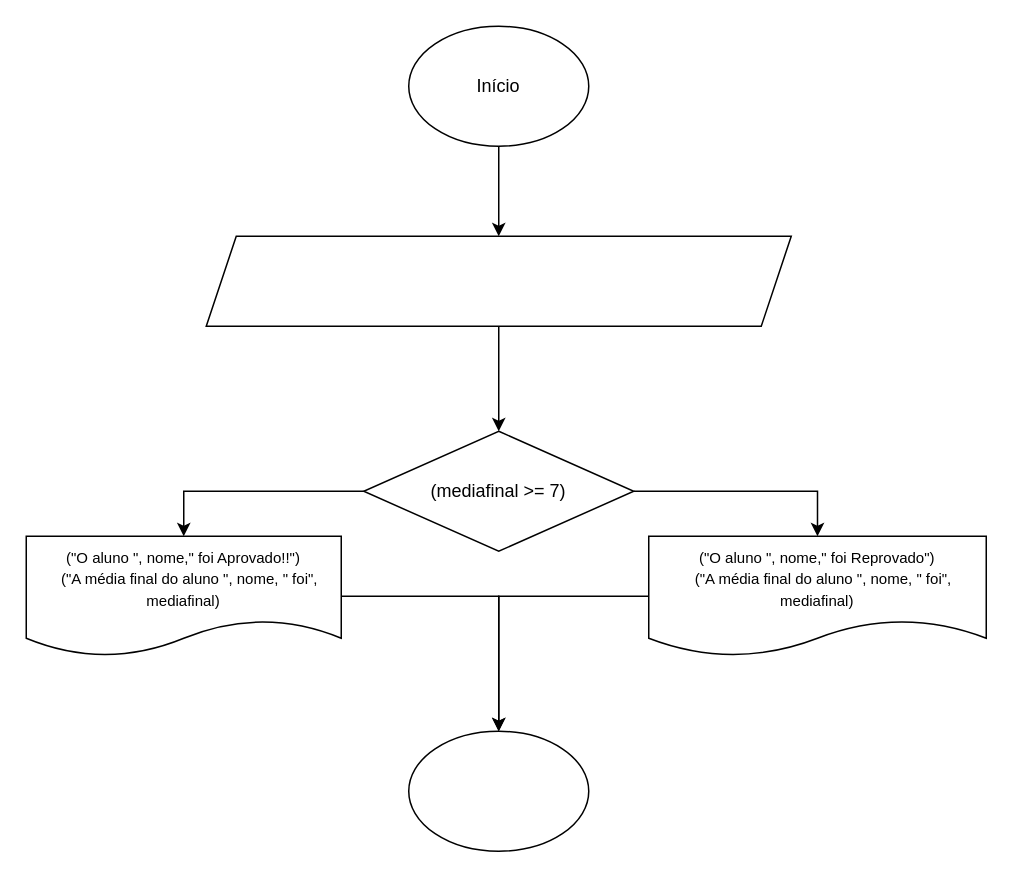
Some shapes in this 1013 by 878 pixel diagram are drawn without their labels. Here are the shapes that lost their labels. From the top down, the centre of each, then its label:
At (498,280): "nome, n1b1, n2b1, n1b2, n2b2, n1b3, n2b3, n1b4, n2b4, mediafinal".
At (498,790): "Fim".
